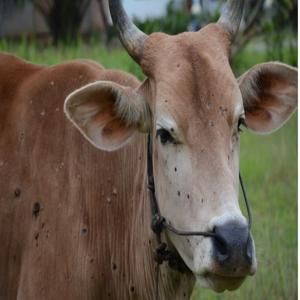lumpy skin diesease: (0, 0, 297, 299)
